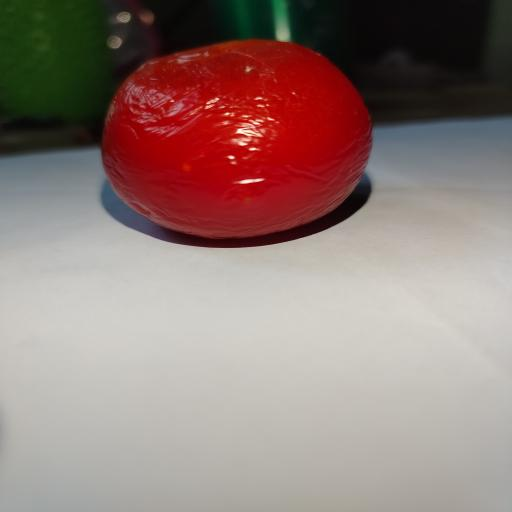spoiled: (103, 40, 371, 238)
